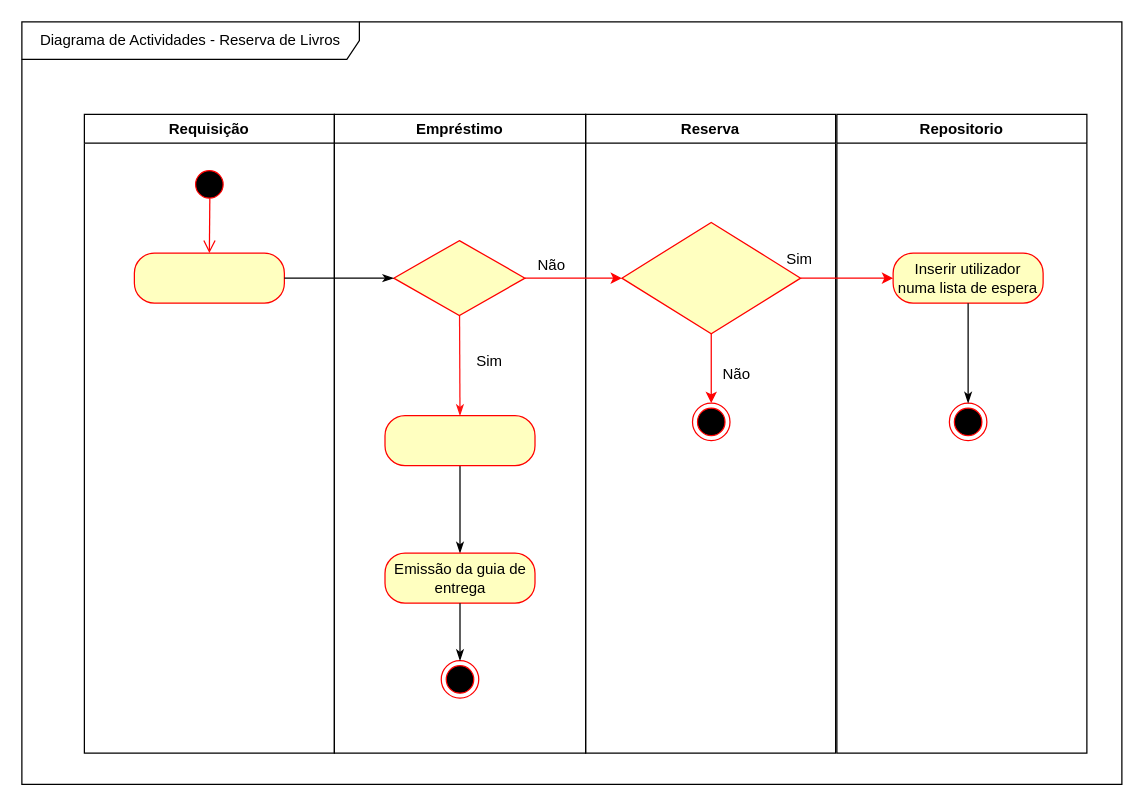
The diagram is 1144 pixels wide and 806 high, and some of its shapes have lost their labels. Here are the shapes that lost their labels. From the top down, the centre of each, then its label:
point (208, 277): Utilizador Requisita Livro
point (458, 277): Livro Disponível?
point (711, 277): Utilizador Pretende Reservar?
point (459, 440): Registo do emprestimo
